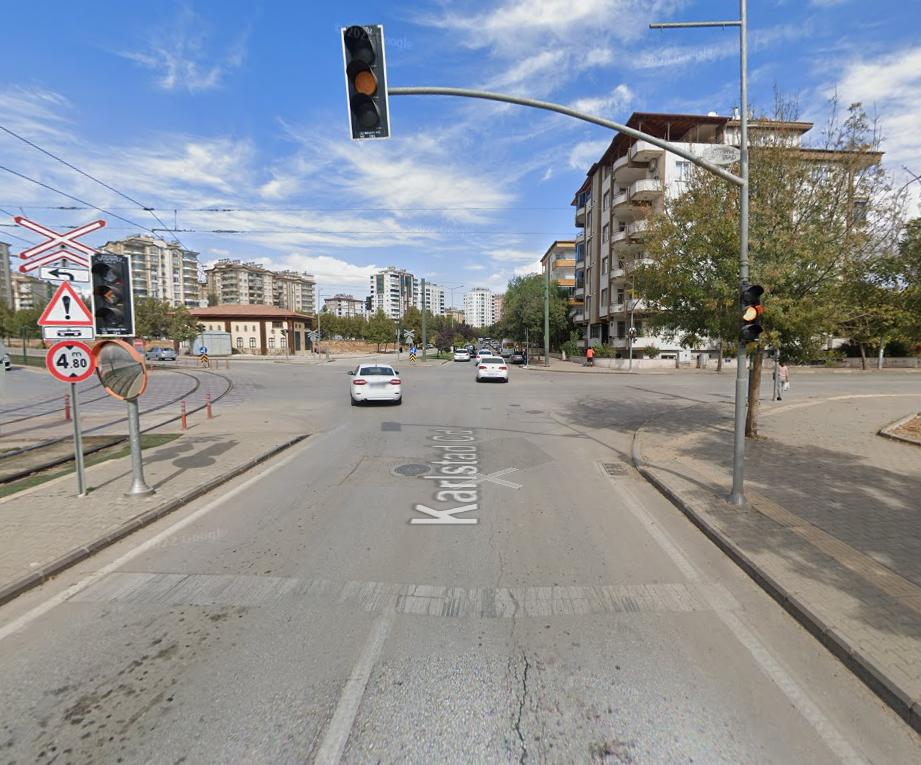yellowlight: (343, 27, 386, 138), (88, 249, 132, 336), (734, 280, 765, 356)
